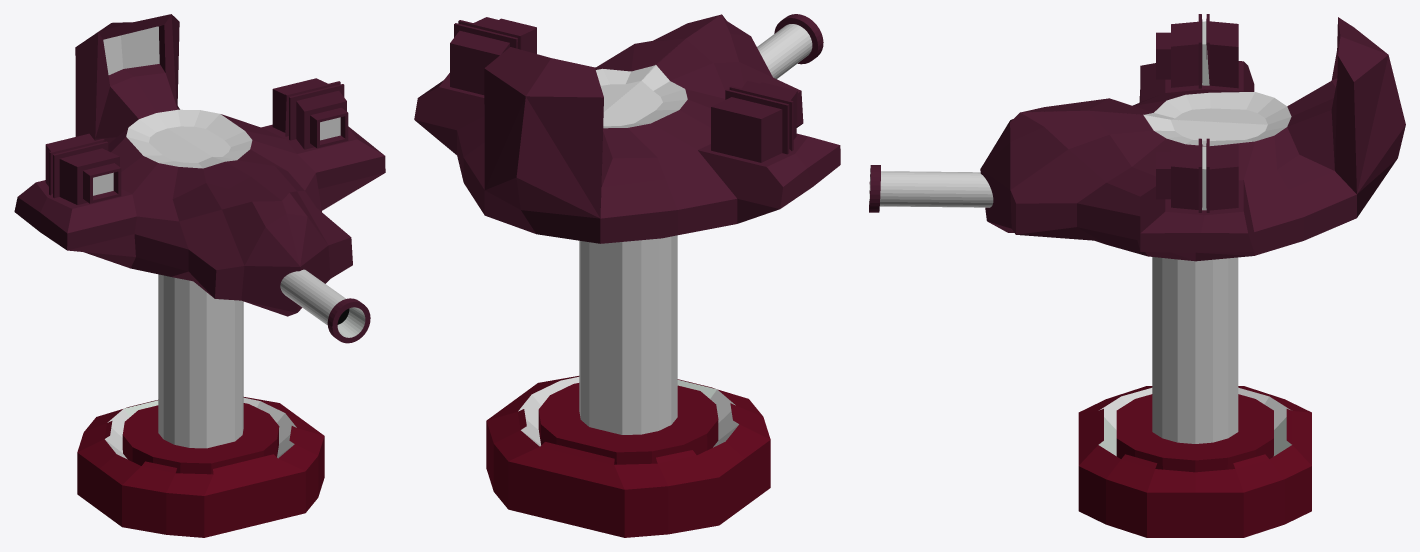
The picture shows the model from 3 angles, left to right: view 1: azimuth 30°, elevation 25°; view 2: azimuth 150°, elevation 25°; view 3: azimuth 270°, elevation 25°; orthographic projection. The views are drawn at different scales.
Visible parts, largest first — view 1: Circle.001, Circle; view 2: Circle.001, Circle; view 3: Circle.001, Circle.
Boxes of the visible parts, bbox=[...] form: Circle.001: bbox=[14, 14, 385, 343]; Circle: bbox=[77, 274, 324, 537]; Circle.001: bbox=[414, 14, 840, 243]; Circle: bbox=[486, 235, 770, 537]; Circle.001: bbox=[869, 14, 1405, 261]; Circle: bbox=[1078, 257, 1311, 537].
Bounding box in the file's own units: 317 × 391 × 425.
